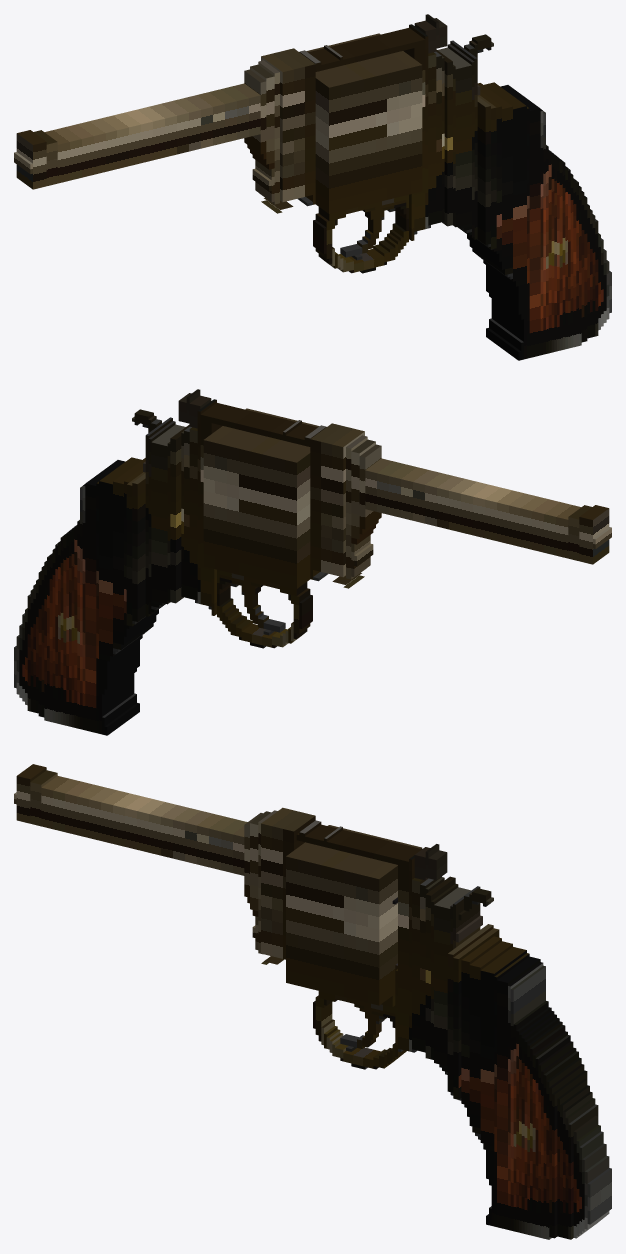
The picture shows the model from 3 angles, top to bottom: view 1: azimuth 30°, elevation 25°; view 2: azimuth 150°, elevation 25°; view 3: azimuth 330°, elevation 25°; orthographic projection.
Visible parts, largest first — view 1: download; view 2: download; view 3: download.
Boxes of the visible parts, x1=… form: download: x1=14, y1=14, x2=611, y2=360; download: x1=14, y1=389, x2=611, y2=735; download: x1=14, y1=764, x2=611, y2=1239.
Bounding box in the file's own units: 0.7757 × 0.4449 × 0.1004.
1 material, 1 textured.
